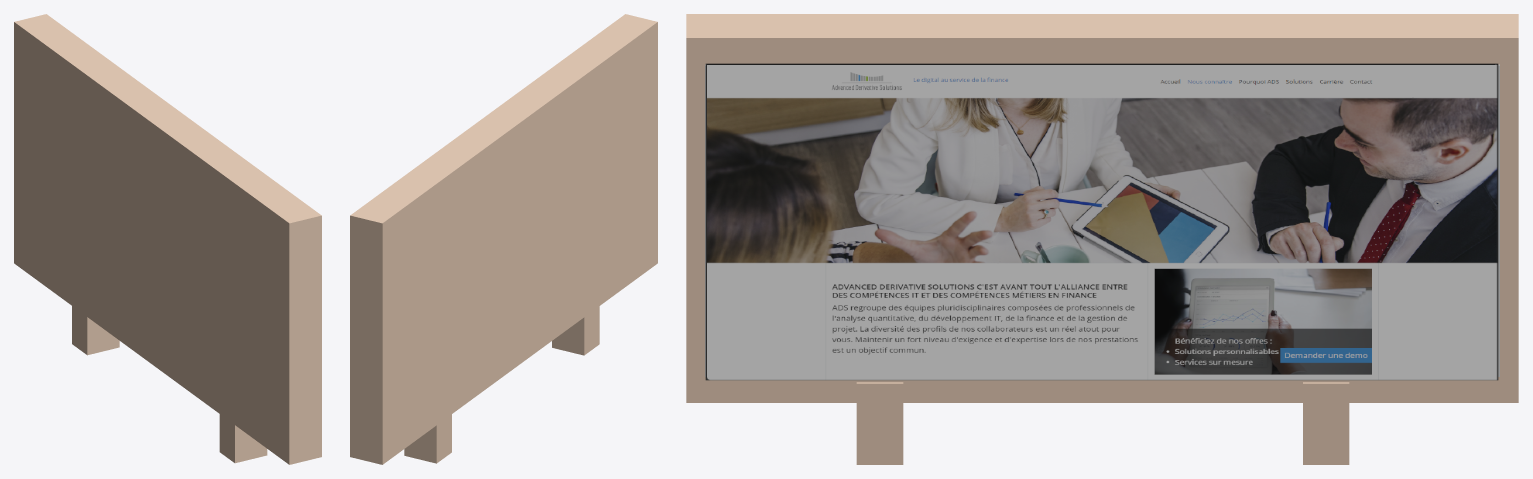
Rendered from screen_no_smooth.glb.
3 renders of one model, left to right at view 1: azimuth 30°, elevation 25°; view 2: azimuth 150°, elevation 25°; view 3: azimuth 270°, elevation 25°, orthographic. The views are drawn at different scales.
Parts seen in each view (by area): view 1: Cube.003, Cube.001, Cube.002; view 2: Cube.003, Cube.001, Cube.002; view 3: ads loginPage, Cube.003, Cube.001, Cube.002, Cube.004.
Boxes of the visible parts, x1,y1,x2,y2 form: Cube.003: (14, 14, 321, 464); Cube.001: (219, 414, 267, 463); Cube.002: (72, 306, 119, 355); Cube.003: (350, 14, 657, 464); Cube.001: (552, 306, 599, 355); Cube.002: (404, 414, 451, 463); ads loginPage: (705, 63, 1498, 380); Cube.003: (686, 14, 1518, 402); Cube.001: (856, 382, 903, 464); Cube.002: (1303, 382, 1349, 464); Cube.004: (705, 64, 1499, 376).
Size of the model in its own units: 1.33 by 10.49 by 18.59.
5 materials, 1 textured.
